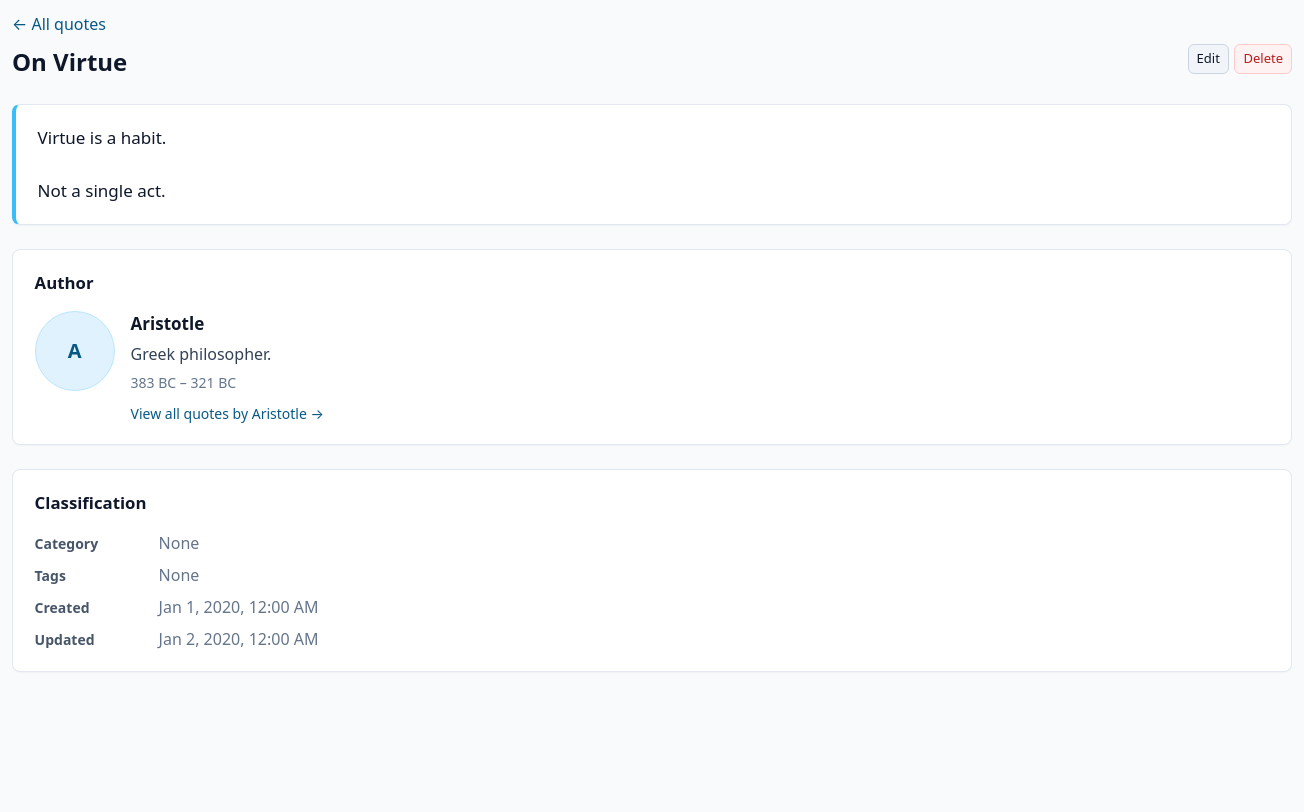
Scenario: QuoteDetailPage › inline edit affordance › local validation (empty title) blocks the save and never reaches the API
Check: the heading "On Virtue" is shown, box top-left (12, 44), bottom-right (127, 80)
Click the button with aria-label "Edit On Virtue" at point(1208, 59), box top-left (1188, 44), bottom-right (1229, 74)
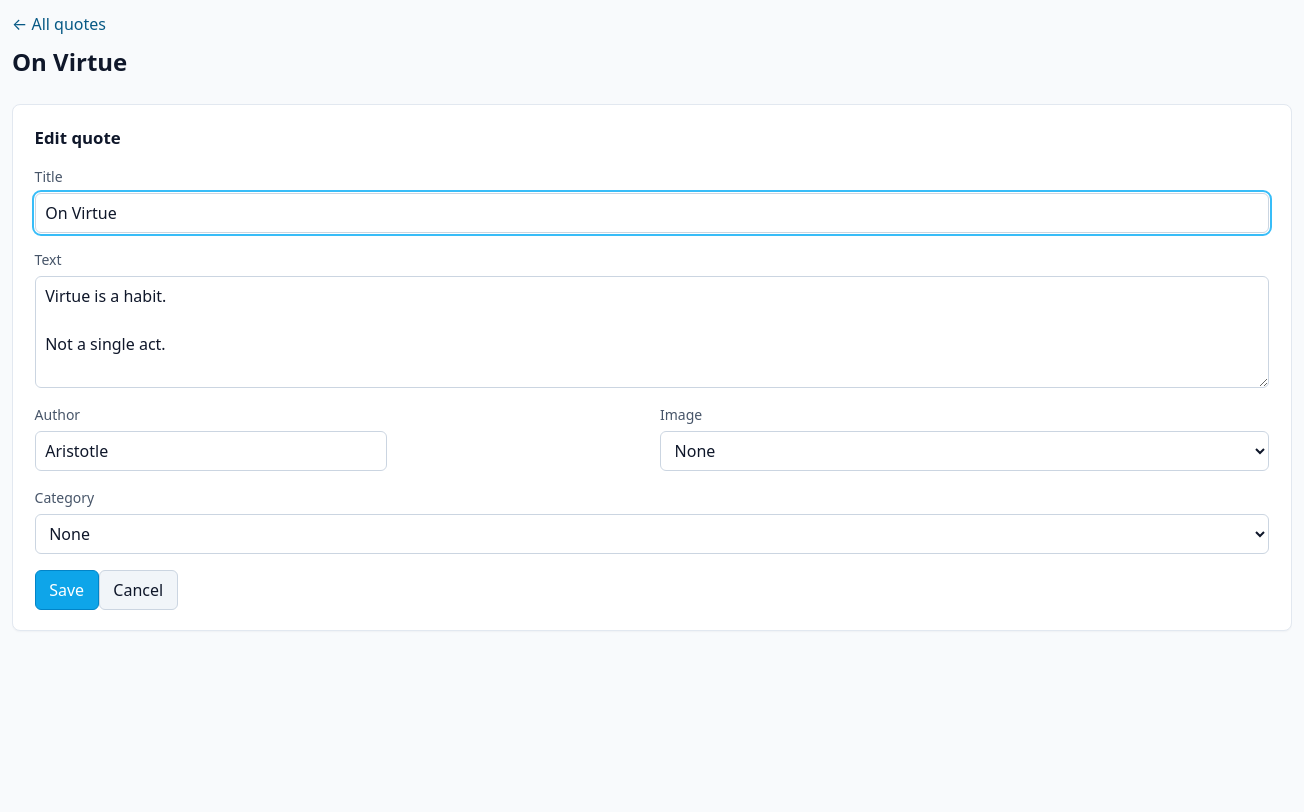
Clear the field named "title — on virtue" at point(652, 213), box top-left (35, 193), bottom-right (1269, 233)
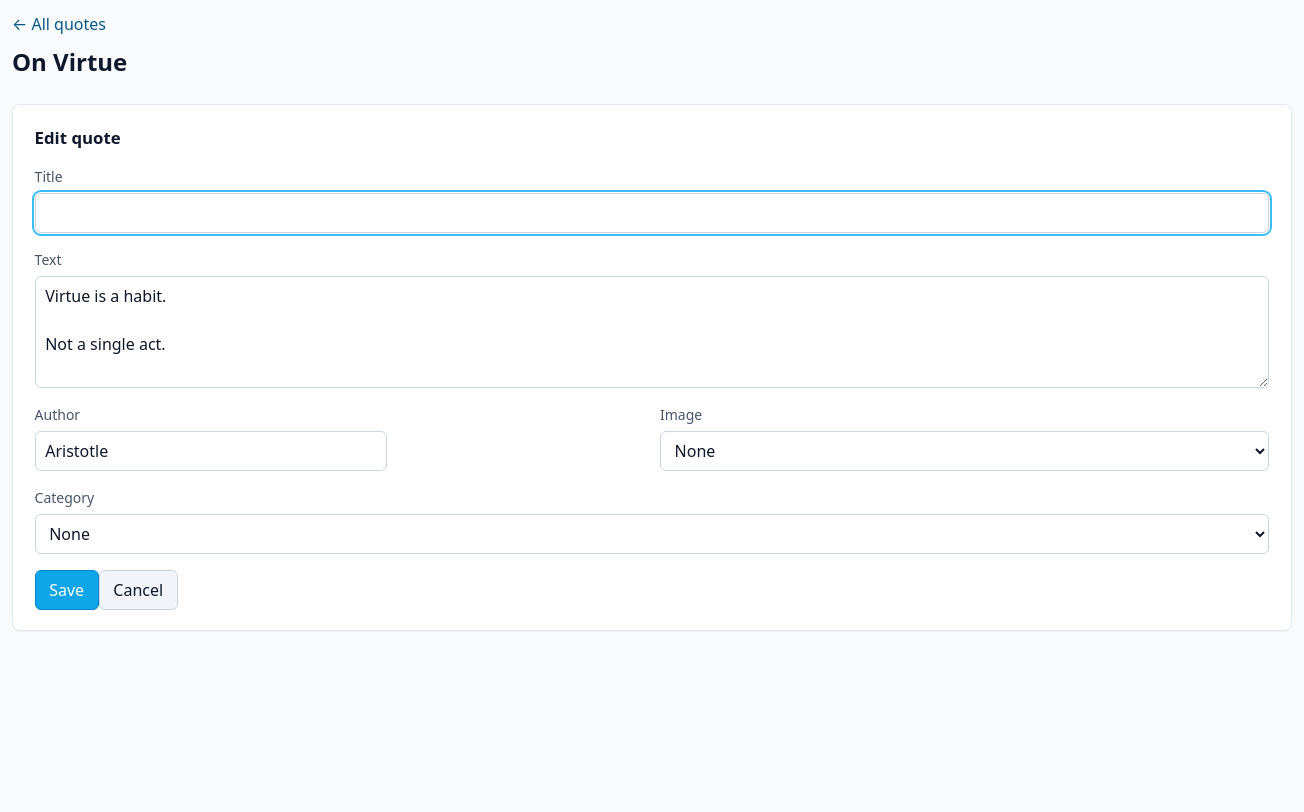
Click the button "Save" at point(67, 590), box top-left (35, 570), bottom-right (99, 610)
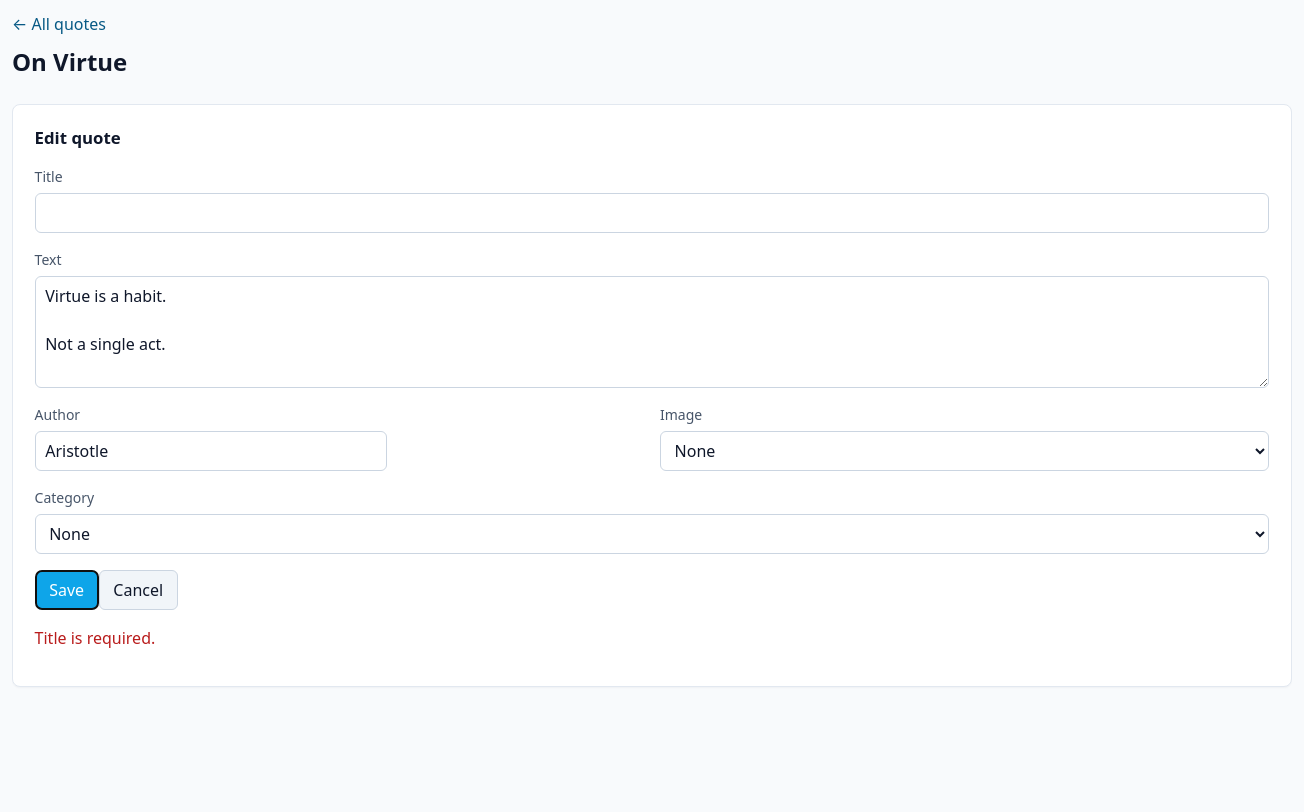
Check: the text "Title is required." is shown, box top-left (35, 627), bottom-right (155, 649)
